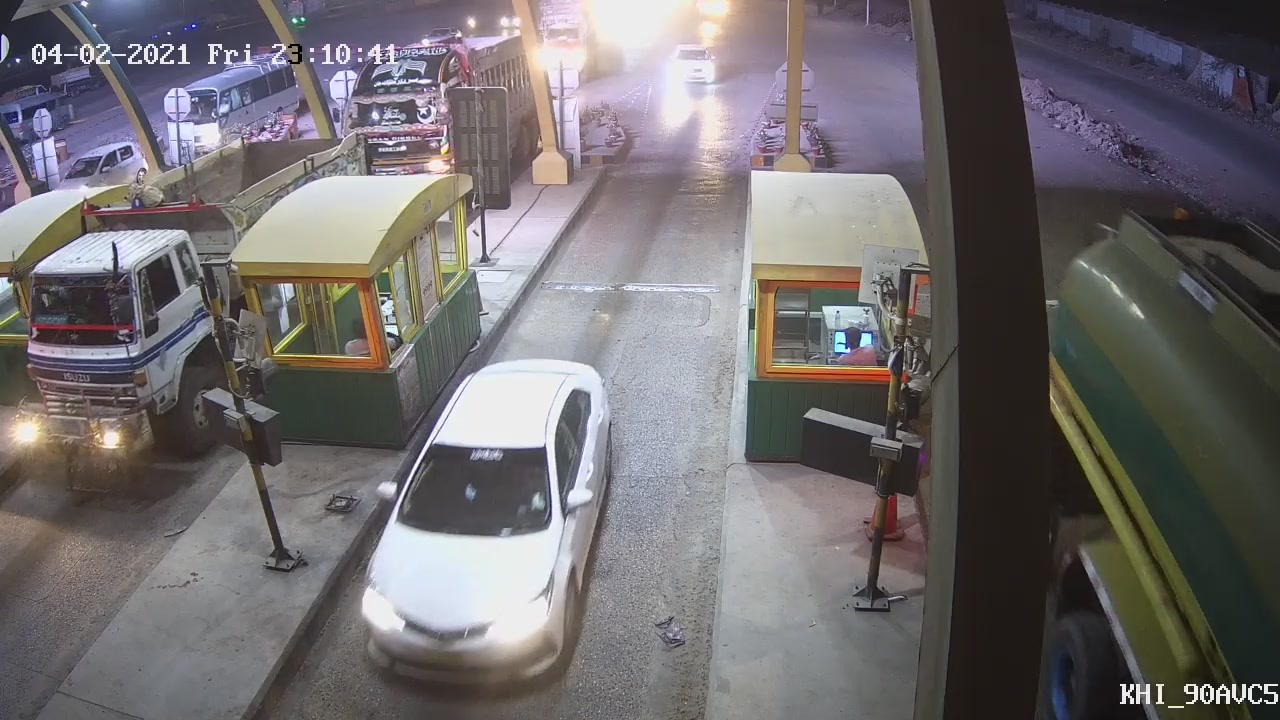F1: (359, 351, 614, 693)
